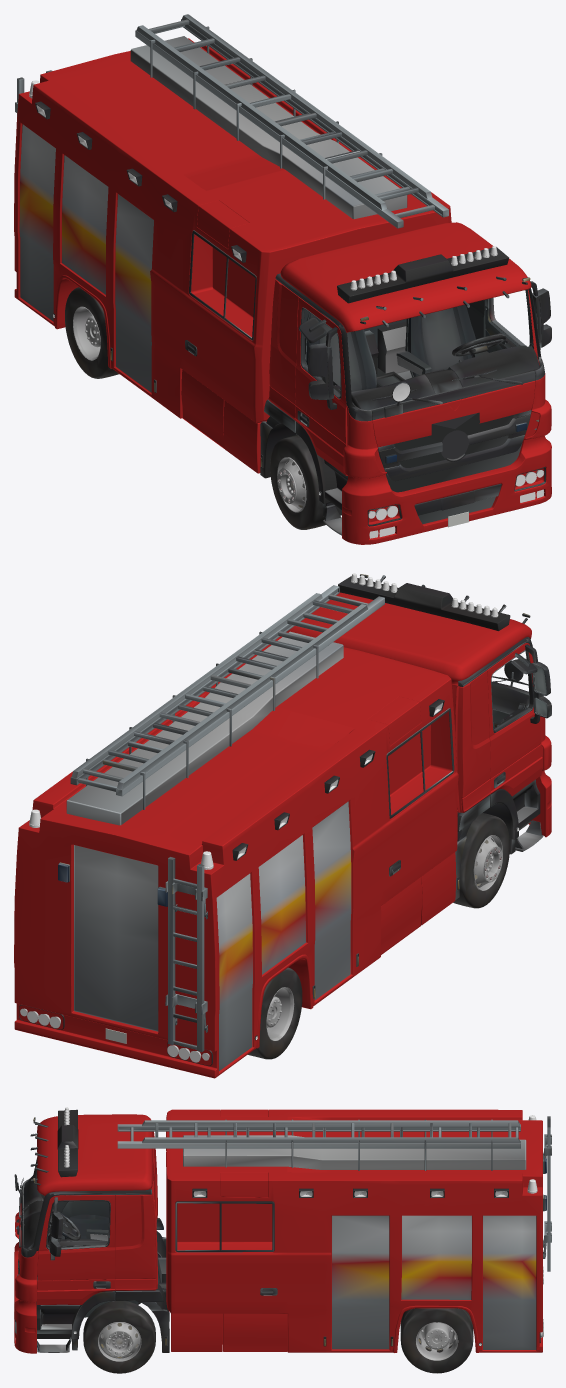
The picture shows the model from 3 angles, top to bottom: view 1: azimuth 30°, elevation 25°; view 2: azimuth 150°, elevation 25°; view 3: azimuth 270°, elevation 25°; orthographic projection. The views are drawn at different scales.
Visible parts, largest first — view 1: body, wheel_FL, wheel_RL; view 2: body, wheel_FL, wheel_RL; view 3: body, wheel_FR, wheel_RR.
Part boxes in pixels (bbox=[...]): body: bbox=[14, 14, 551, 544]; wheel_FL: bbox=[270, 435, 325, 529]; wheel_RL: bbox=[65, 287, 119, 378]; body: bbox=[14, 573, 551, 1078]; wheel_FL: bbox=[453, 813, 509, 908]; wheel_RL: bbox=[247, 967, 302, 1059]; body: bbox=[14, 1107, 551, 1353]; wheel_FR: bbox=[83, 1301, 155, 1373]; wheel_RR: bbox=[400, 1308, 473, 1373].
Bounding box in the file's own units: 3.38 × 3.83 × 8.47.
